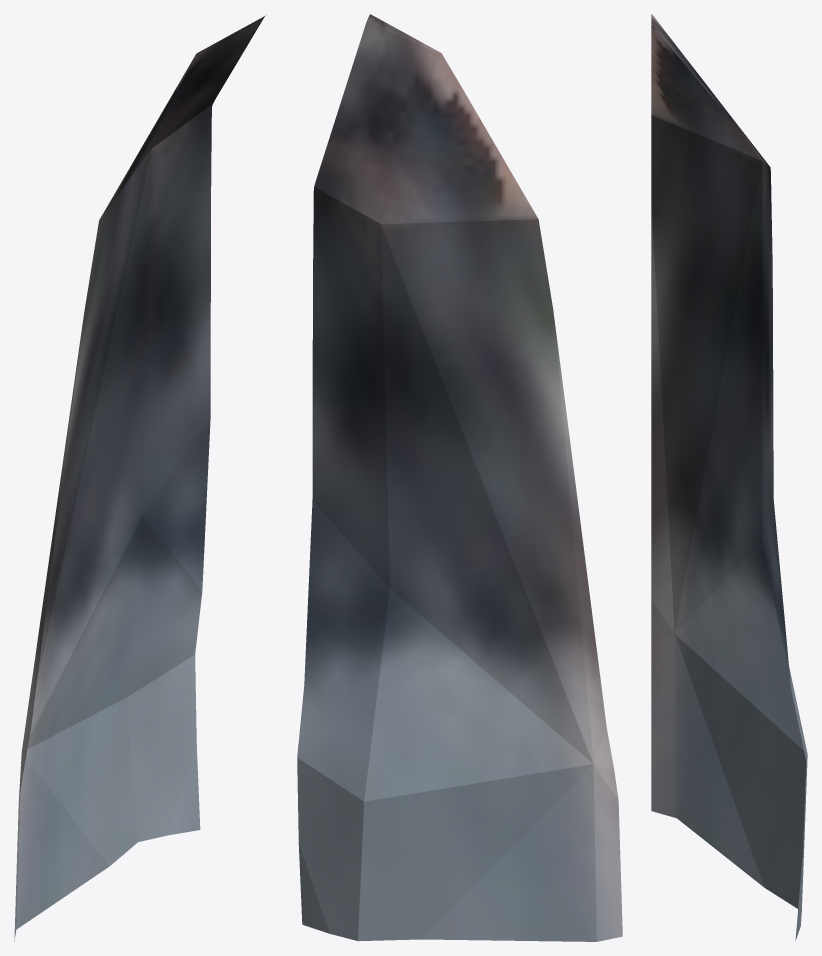
3 views of the same model, side by side, from view 1: azimuth 30°, elevation 25°; view 2: azimuth 150°, elevation 25°; view 3: azimuth 270°, elevation 25° (orthographic). The views are drawn at different scales.
Bounding box in the file's own units: 0.1449 × 0.4719 × 0.0732.
Materials: 1 (1 with a texture image).
